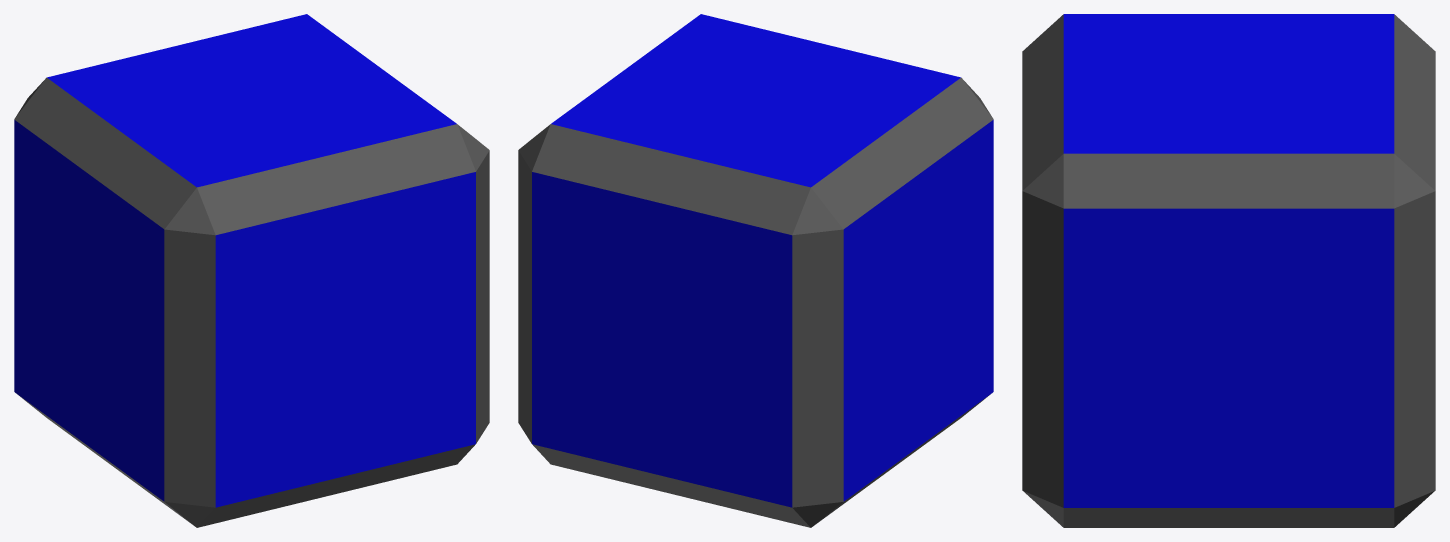
Rendered from Block_Wall.fbx.
3 renders of one model, left to right at view 1: azimuth 30°, elevation 25°; view 2: azimuth 150°, elevation 25°; view 3: azimuth 270°, elevation 25°, orthographic. The views are drawn at different scales.
Parts seen in each view (by area): view 1: pCube2; view 2: pCube2; view 3: pCube2.
Boxes of the visible parts, x1,y1,x2,y2 form: pCube2: (14, 14, 489, 527); pCube2: (518, 14, 993, 527); pCube2: (1022, 14, 1435, 527).
Size of the model in its own units: 1 by 1 by 1.
